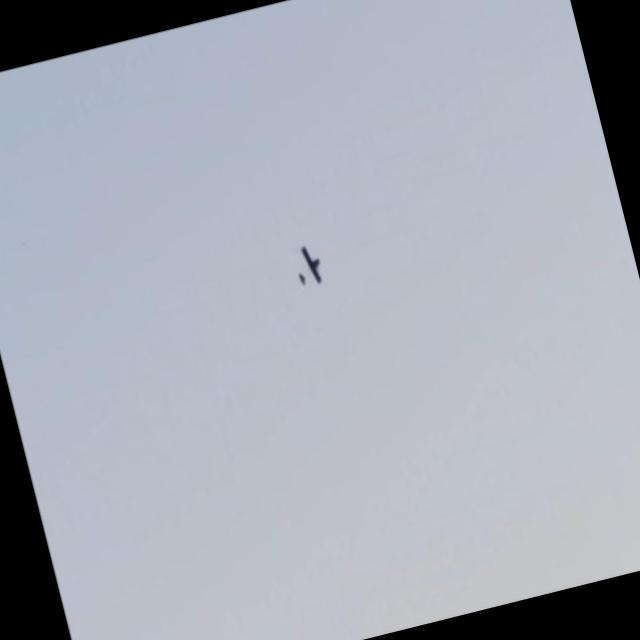UAV: (282, 228, 325, 320)
